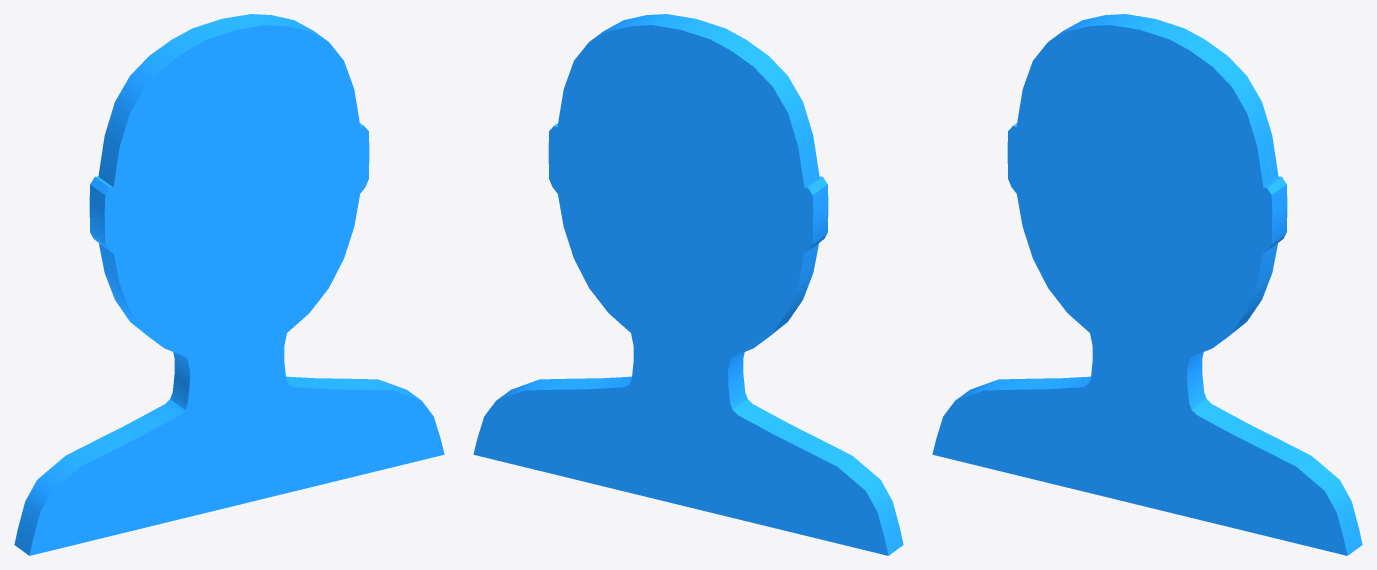
File: bust_in_silhouette.glb
3 renders of one model, left to right at view 1: azimuth 30°, elevation 25°; view 2: azimuth 150°, elevation 25°; view 3: azimuth 330°, elevation 25°, orthographic.
Visible parts, largest first — view 1: Circle.1775; view 2: Circle.1775; view 3: Circle.1775.
Part boxes in pixels (x1,y1,x2,y2): Circle.1775: (14, 14, 444, 555); Circle.1775: (473, 14, 903, 555); Circle.1775: (932, 14, 1362, 555).
Bounding box in the file's own units: 1.59 × 1.74 × 0.1.
Materials: 1 (1 with a texture image).
